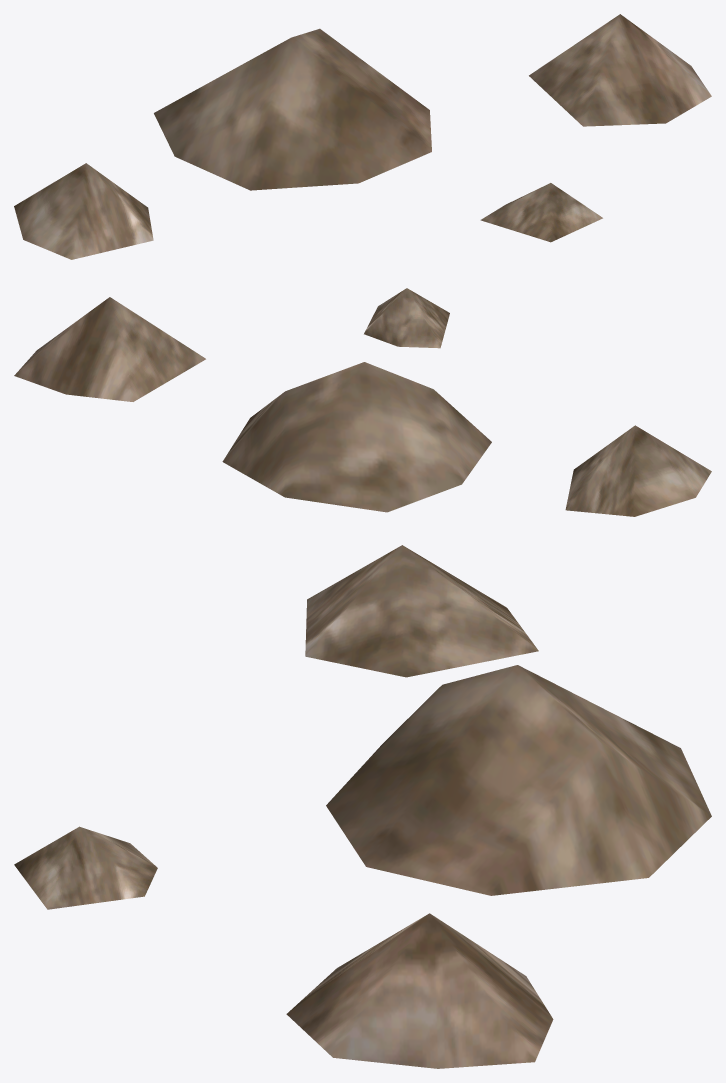
Rendered from INST_OH_FINE_ROCKS_01.fbx.
3 renders of one model, top to bottom at view 1: azimuth 30°, elevation 25°; view 2: azimuth 150°, elevation 25°; view 3: azimuth 270°, elevation 25°, orthographic. The views are drawn at different scales.
Parts seen in each view (by area): view 1: INST_OH_FINE_ROCKS_01; view 2: INST_OH_FINE_ROCKS_01; view 3: INST_OH_FINE_ROCKS_01.
Part boxes in pixels (box(x1,y1,x2,y2)): INST_OH_FINE_ROCKS_01: box(14, 14, 711, 259); INST_OH_FINE_ROCKS_01: box(14, 288, 711, 516); INST_OH_FINE_ROCKS_01: box(14, 545, 711, 1068).
Size of the model in its own units: 5421 by 753 by 3343.
Materials: 1 (1 with a texture image).
